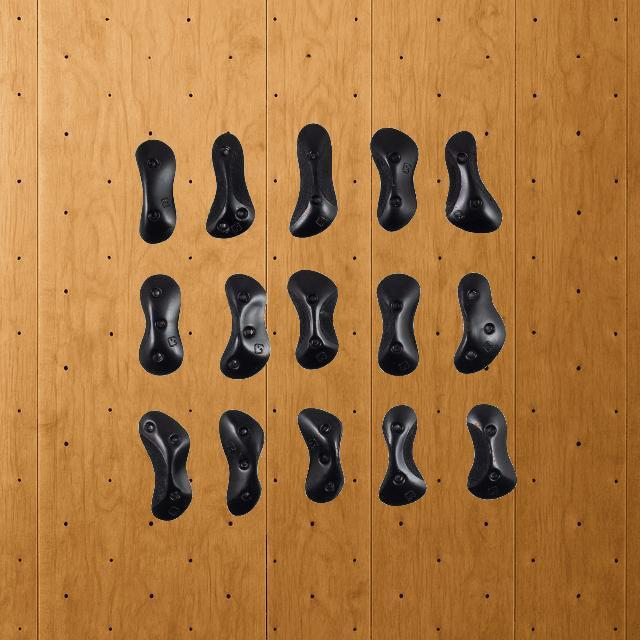Sloper: (442, 130, 502, 232), (140, 410, 192, 520), (220, 272, 272, 381), (453, 270, 507, 374), (286, 268, 340, 369), (368, 127, 420, 231), (290, 122, 336, 238), (207, 132, 256, 238), (378, 404, 428, 506), (466, 403, 518, 501), (374, 272, 421, 376), (218, 410, 264, 516), (139, 272, 183, 376), (296, 408, 344, 502), (135, 140, 177, 244)
